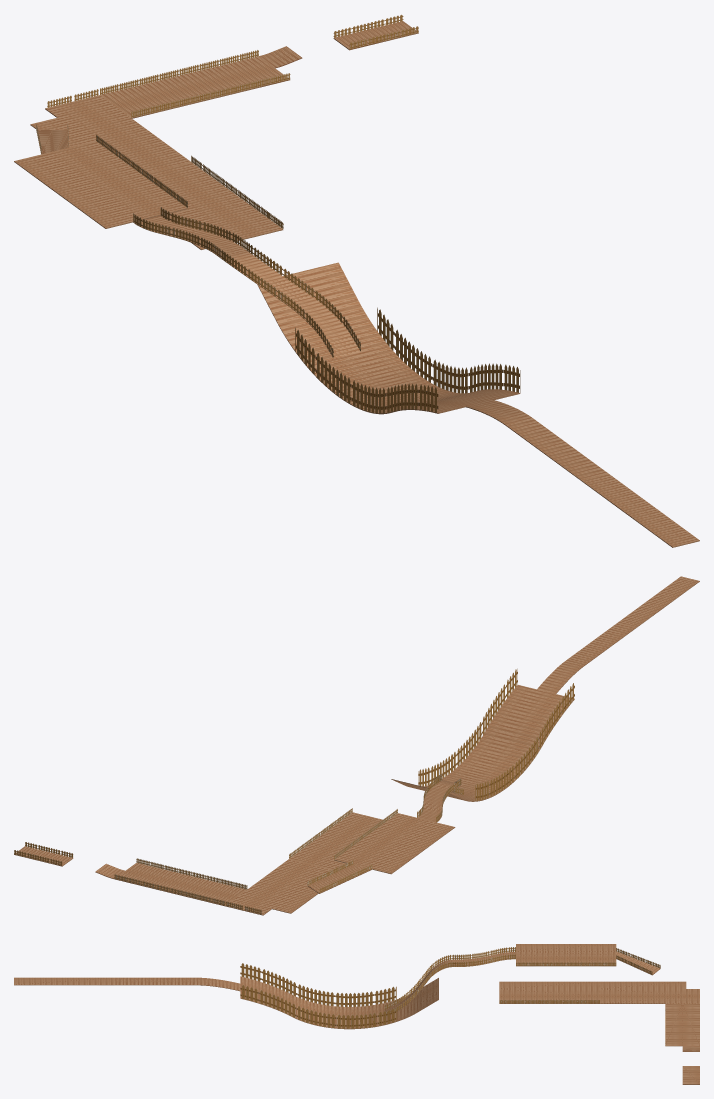
File: TRACK8.fbx
The picture shows the model from 3 angles, top to bottom: view 1: azimuth 30°, elevation 25°; view 2: azimuth 150°, elevation 25°; view 3: azimuth 270°, elevation 25°; orthographic projection. The views are drawn at different scales.
Parts seen in each view (by area): view 1: Cube, Cube.005, Cube.002, Cube.023, Cube.021, Cube.017, Cube.003, Cube.018, Cube.009, Cube.006, Cube.033, Cube.020 (+6 smaller); view 2: Cube, Cube.005, Cube.002, Cube.021, Cube.003, Cube.017, Cube.018, Cube.009, Cube.019, Cube.020, Cube.006, Cube.032 (+5 smaller); view 3: Cube.005, Cube, Cube.003, Cube.023, Cube.021, Cube.002, Cube.009, Cube.017, Cube.004, Cube.007, Cube.032, Cube.018 (+9 smaller).
Boxes of the visible parts, x1,y1,x2,y2 form: Cube: [133, 215, 607, 480]; Cube.005: [295, 307, 520, 413]; Cube.002: [311, 262, 520, 399]; Cube.023: [133, 207, 360, 357]; Cube.021: [36, 129, 160, 221]; Cube.017: [100, 46, 302, 106]; Cube.003: [257, 276, 465, 414]; Cube.018: [14, 154, 132, 228]; Cube.009: [581, 473, 699, 547]; Cube.006: [164, 162, 283, 236]; Cube.033: [73, 95, 191, 168]; Cube.020: [69, 141, 187, 215]; Cube: [410, 623, 635, 822]; Cube.005: [418, 668, 574, 801]; Cube.002: [391, 685, 536, 790]; Cube.021: [308, 817, 435, 893]; Cube.003: [447, 694, 574, 801]; Cube.017: [95, 863, 235, 906]; Cube.018: [372, 822, 455, 874]; Cube.009: [617, 576, 699, 627]; Cube.019: [126, 863, 246, 897]; Cube.020: [334, 813, 416, 863]; Cube.006: [289, 812, 371, 863]; Cube.032: [244, 863, 326, 915]; Cube.005: [240, 963, 396, 1028]; Cube: [114, 952, 515, 1021]; Cube.003: [240, 976, 438, 1014]; Cube.023: [384, 947, 515, 1016]; Cube.021: [516, 951, 660, 975]; Cube.002: [240, 991, 438, 1029]; Cube.009: [14, 977, 114, 985]; Cube.017: [682, 1003, 699, 1051]; Cube.004: [499, 981, 599, 988]; Cube.007: [499, 989, 599, 996]; Cube.032: [599, 989, 699, 996]; Cube.018: [516, 944, 616, 951].
Bounding box in the file's own units: 8661 × 1514 × 20214.
Materials: 5 (5 with a texture image).
